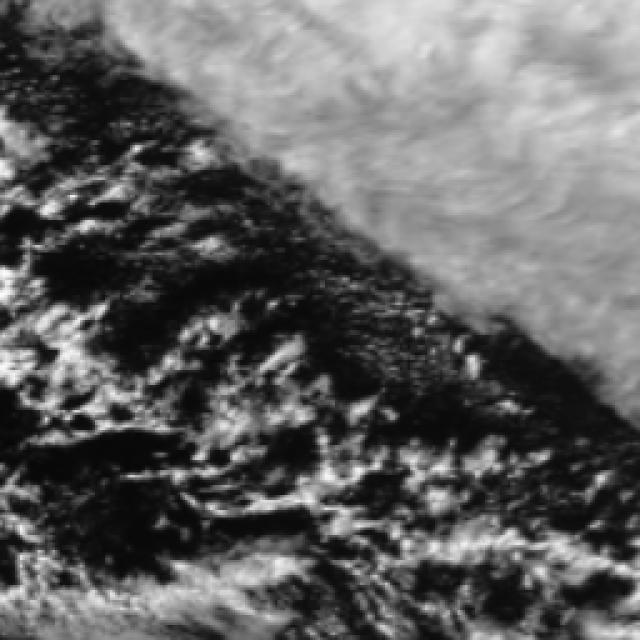CB: (345, 0, 640, 150)
